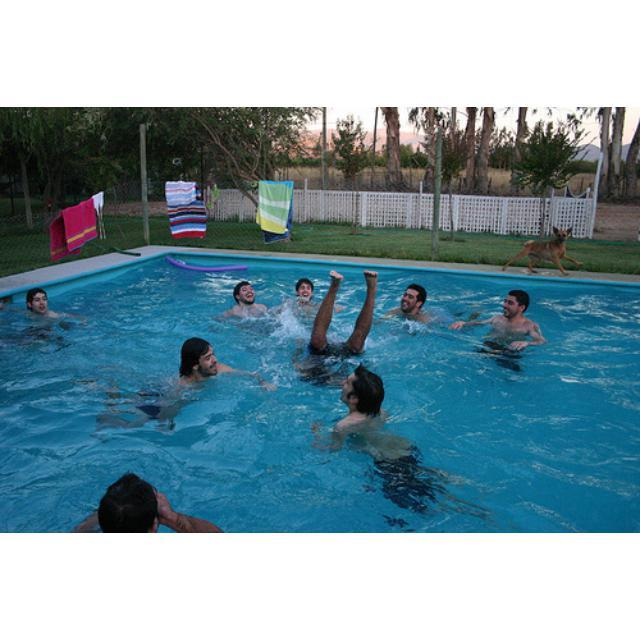human: (324, 362, 425, 482), (76, 471, 218, 531), (446, 289, 547, 349), (153, 334, 224, 417), (314, 270, 381, 355), (221, 277, 270, 317), (376, 281, 422, 323), (288, 275, 325, 308), (24, 286, 59, 318)
